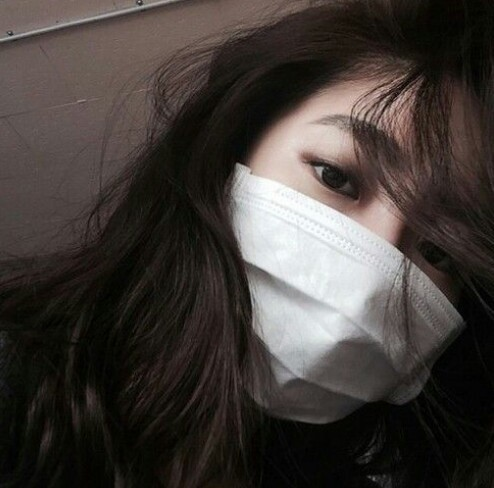face_with_mask: (177, 42, 491, 441)
